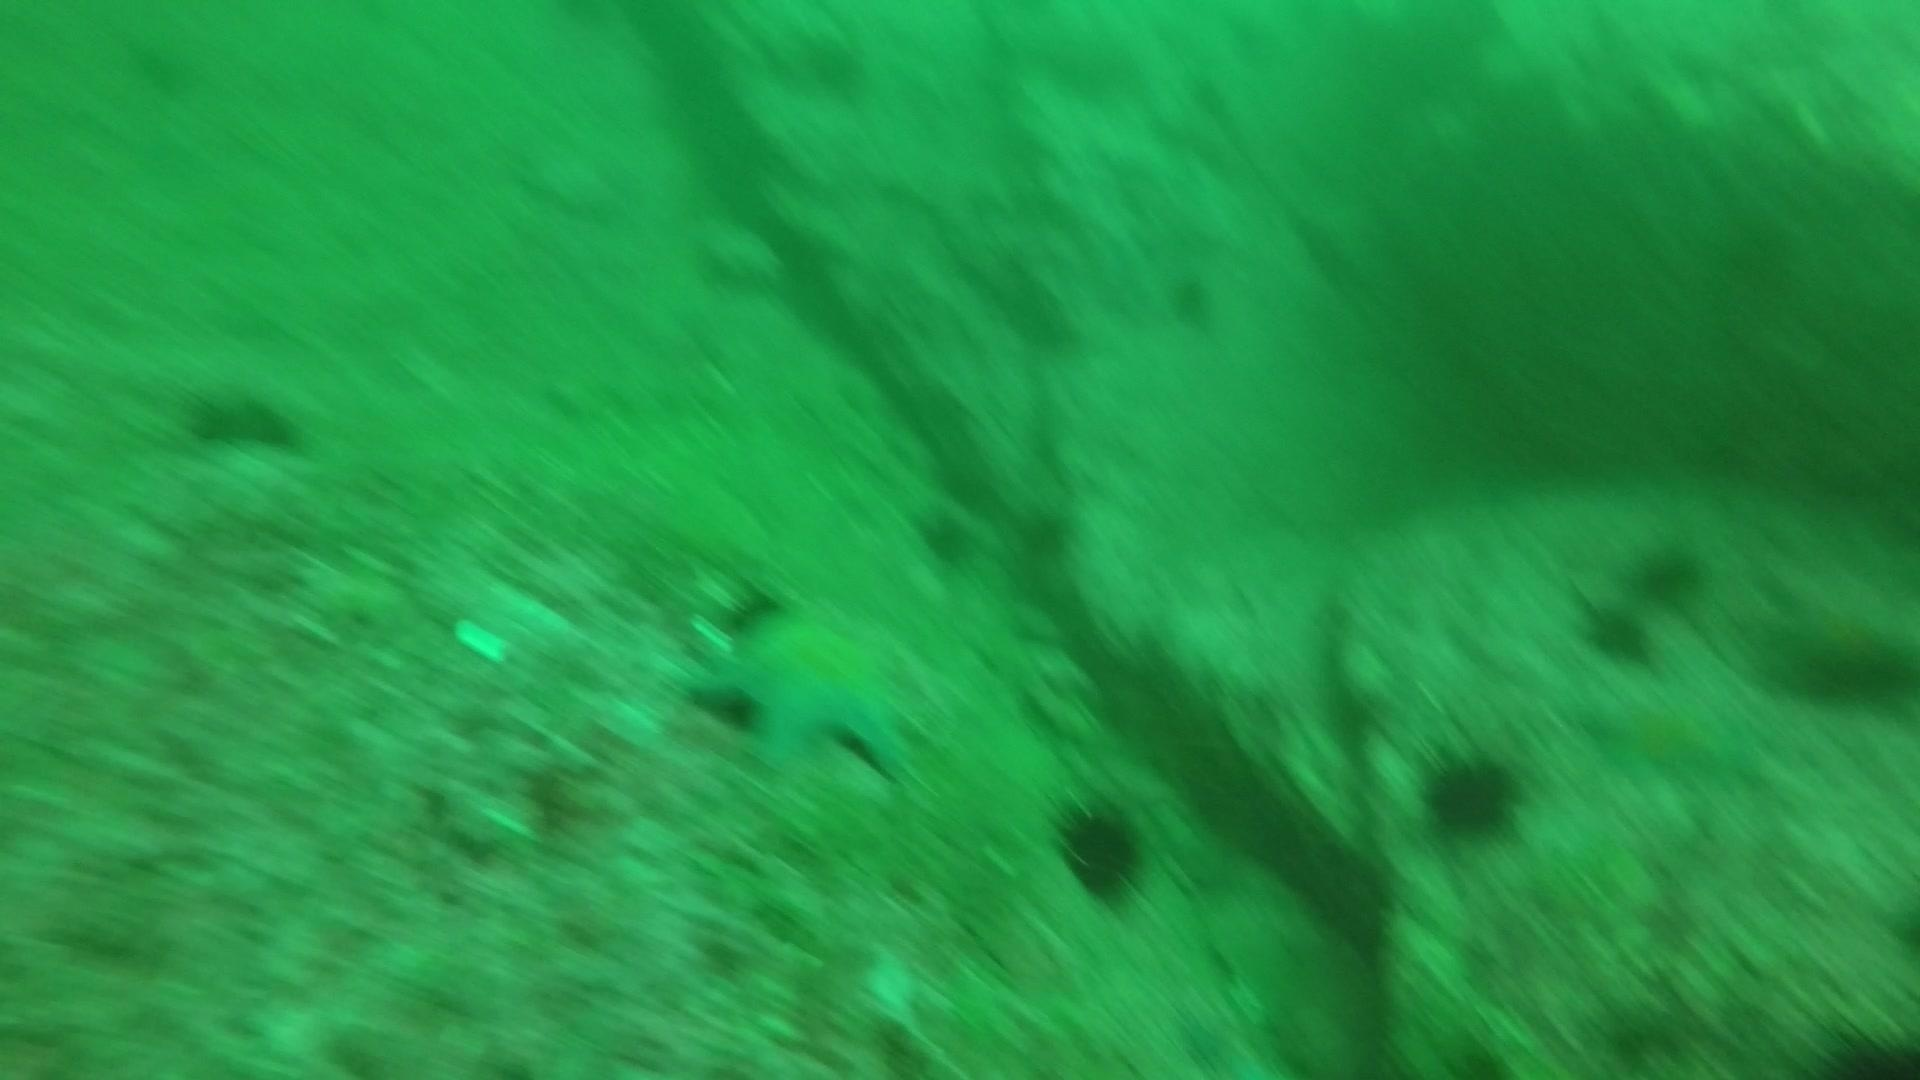echinus: (1772, 611, 1916, 715), (1048, 795, 1153, 907), (1415, 744, 1528, 843), (181, 378, 305, 458), (1577, 596, 1659, 669), (1626, 535, 1709, 607), (913, 504, 978, 570), (1162, 266, 1222, 331)
starfish: (680, 595, 926, 787), (1584, 680, 1750, 786)
